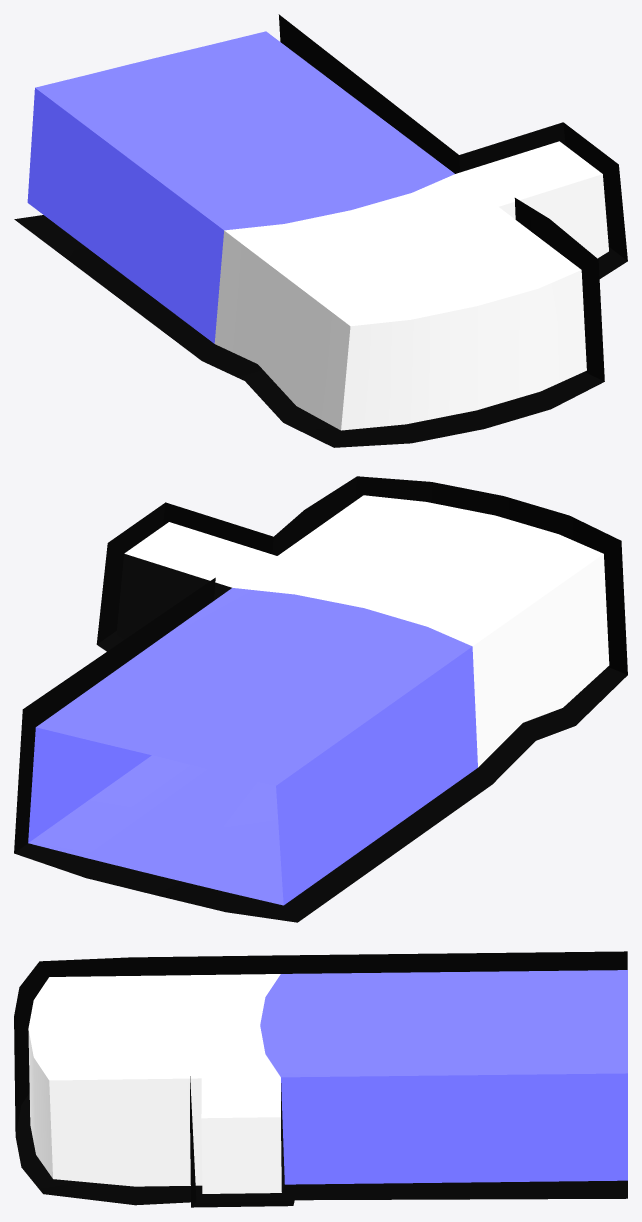
File: righthand.glb
3 renders of one model, top to bottom at view 1: azimuth 30°, elevation 25°; view 2: azimuth 150°, elevation 25°; view 3: azimuth 270°, elevation 25°, orthographic. The views are drawn at different scales.
Parts seen in each view (by area): view 1: Cube; view 2: Cube; view 3: Cube.
Part boxes in pixels (x1,y1,x2,y2): Cube: (14,14,627,447); Cube: (14,476,627,922); Cube: (14,951,627,1207).
Size of the model in its own units: 0.2646 by 0.1073 by 0.4083.
